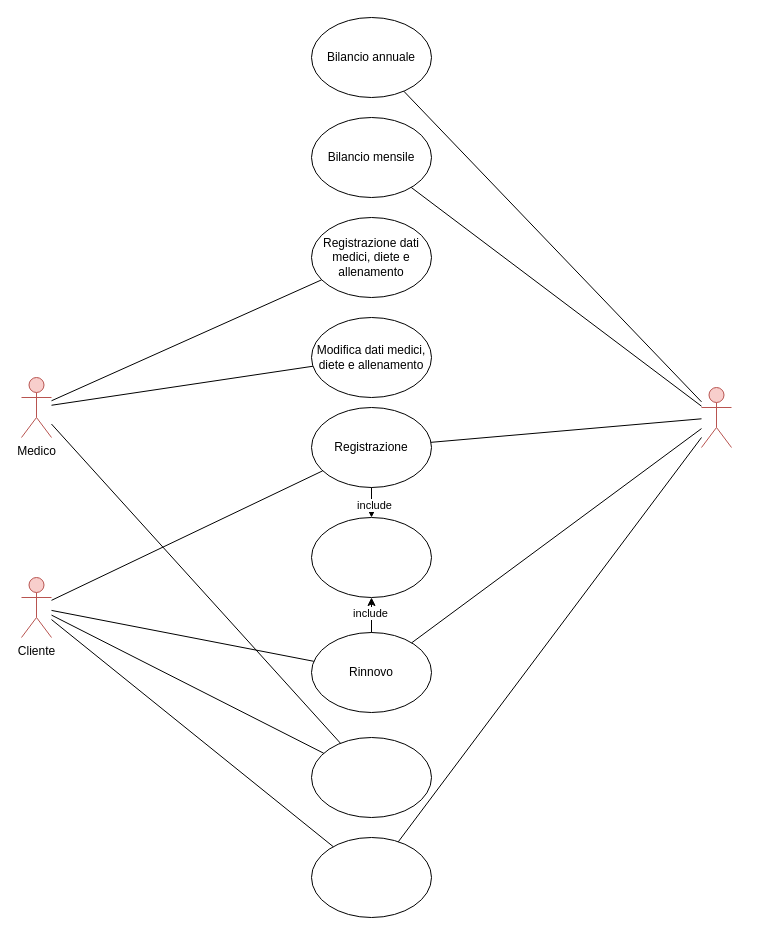
This 774x935 diagram has some shape labels left out. Each missing label, with the box of its shape:
Amministratore: (700, 386, 732, 448)
Pagamento: (310, 516, 432, 598)
Visualizza abbonamento: (310, 836, 432, 918)
Visualizza dati medici, dieta e allenamento: (310, 736, 432, 818)
